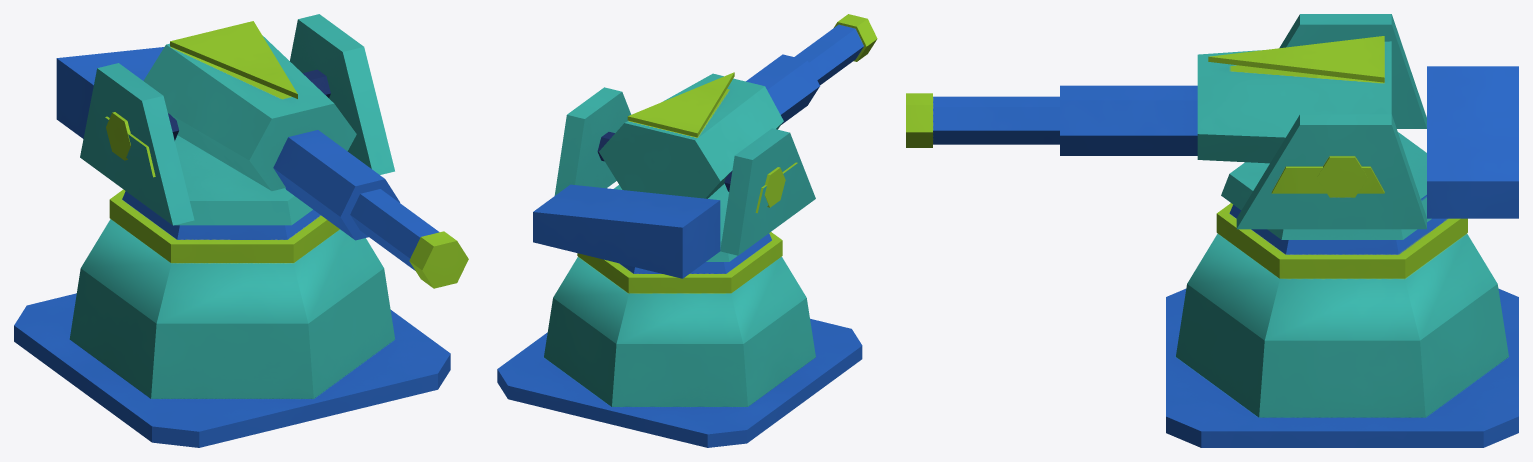
The model's file is R4W_Basic_LOD1.glb.
3 renders of one model, left to right at view 1: azimuth 30°, elevation 25°; view 2: azimuth 150°, elevation 25°; view 3: azimuth 270°, elevation 25°, orthographic. The views are drawn at different scales.
Visible parts, largest first — view 1: R4W_Basic_LOD1; view 2: R4W_Basic_LOD1; view 3: R4W_Basic_LOD1.
Part boxes in pixels (x1,y1,x2,y2): R4W_Basic_LOD1: (14, 14, 468, 447); R4W_Basic_LOD1: (497, 14, 877, 447); R4W_Basic_LOD1: (906, 14, 1518, 447).
Size of the model in its own units: 0.5 by 0.495 by 0.868.
Materials: 1 (1 with a texture image).
